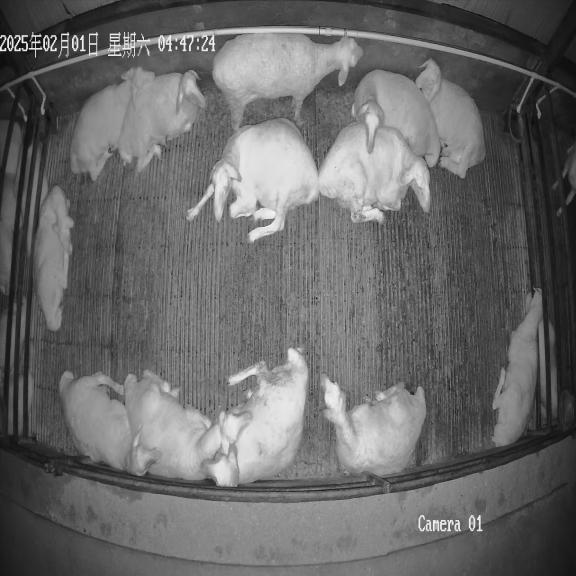lying: (187, 118, 319, 242), (206, 348, 309, 486), (124, 370, 252, 480), (318, 121, 430, 222), (59, 371, 160, 476), (322, 377, 426, 477), (70, 67, 155, 180), (118, 70, 205, 172), (352, 70, 441, 168), (415, 58, 485, 178), (492, 290, 542, 446), (34, 185, 74, 332)
stand: (212, 33, 363, 129)
